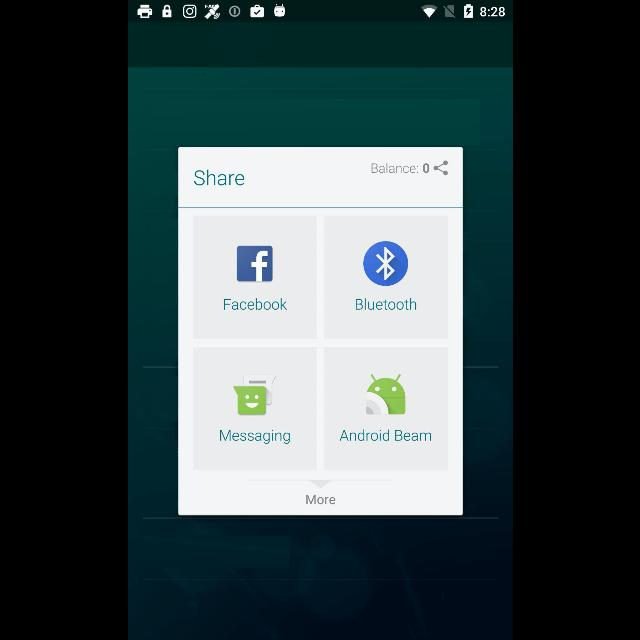icon: (362, 242, 408, 286), (236, 246, 272, 282), (432, 160, 448, 176)
image: (232, 374, 276, 416), (365, 374, 405, 414)
panel: (178, 148, 462, 516)
text: (339, 429, 431, 441), (219, 430, 289, 444), (193, 170, 244, 186), (223, 298, 287, 310), (354, 298, 416, 310), (370, 162, 418, 174), (422, 164, 428, 174)
textbutton: (178, 480, 462, 516)
uppertaskbar: (128, 1, 512, 23)
